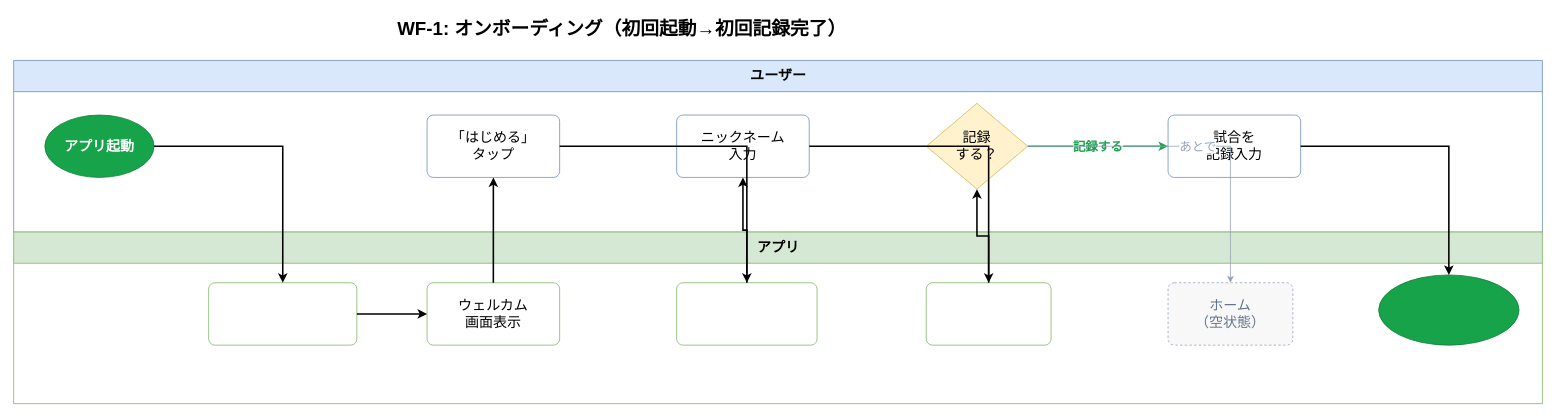
This 1556x417 diagram has some shape labels left out. The shapes that lost their labels are listed below. From the top down, each one's centre as x and y in pixels, then its label:
pixel 282 313: スプラッシュ 表示（0.5秒）
pixel 746 313: プロフィール 設定画面
pixel 988 313: 記録誘導 画面
pixel 1448 309: 初回記録完了 ホーム表示
